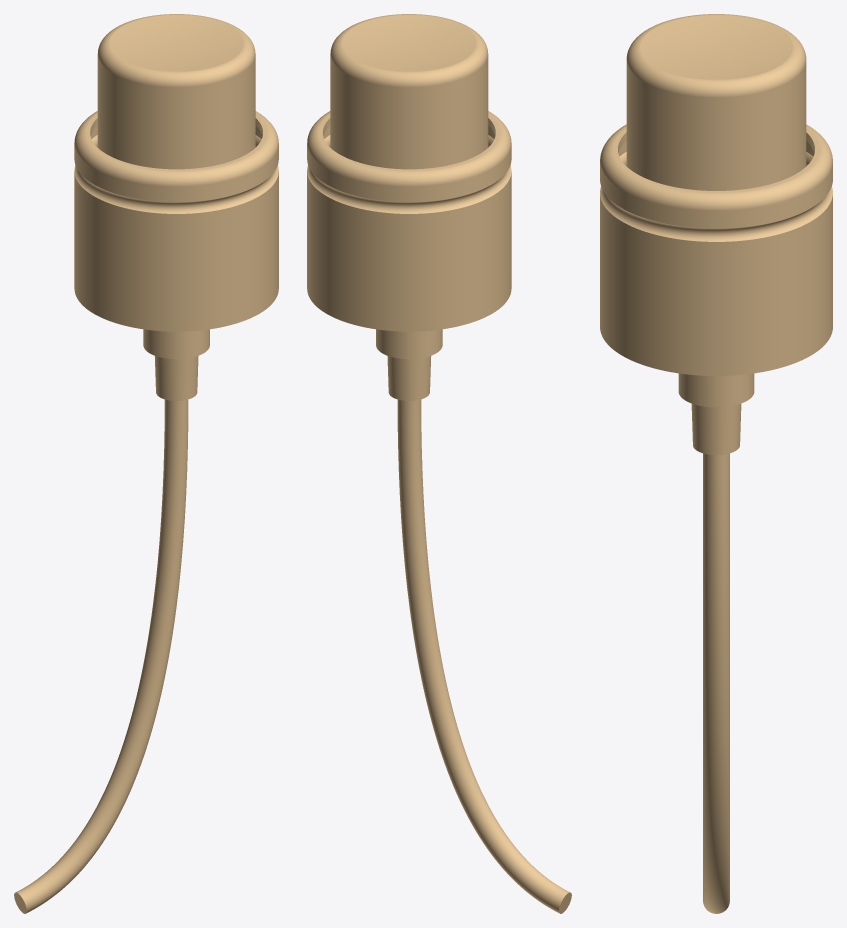
Rendered from Pump.gltf.
3 views of the same model, side by side, from view 1: azimuth 30°, elevation 25°; view 2: azimuth 150°, elevation 25°; view 3: azimuth 270°, elevation 25° (orthographic). The views are drawn at different scales.
Visible parts, largest first — view 1: Pump 31MS-15 FEA, Tube; view 2: Pump 31MS-15 FEA, Tube; view 3: Pump 31MS-15 FEA, Tube.
Part boxes in pixels (x1,y1,x2,y2): Pump 31MS-15 FEA: (74,14,278,400); Tube: (14,399,188,913); Pump 31MS-15 FEA: (307,14,511,400); Tube: (397,399,571,913); Pump 31MS-15 FEA: (600,14,832,454); Tube: (703,453,729,913).
Bounding box in the file's own units: 0.0241 × 0.0775 × 0.0172.
